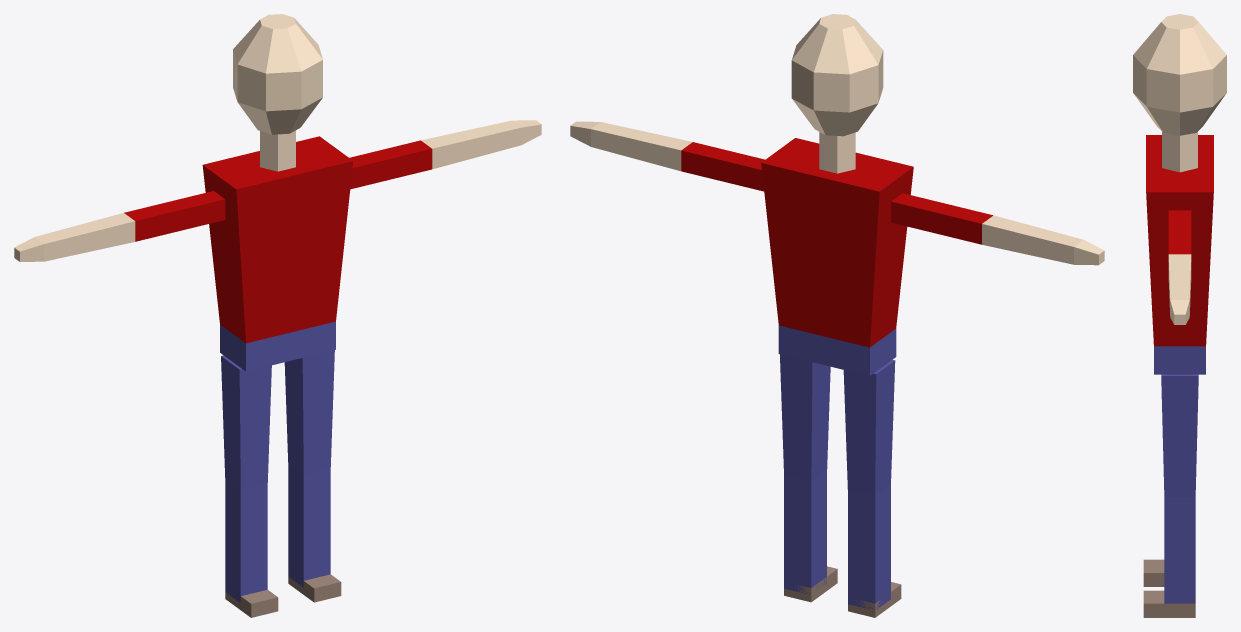
File: human.glb
3 renders of one model, left to right at view 1: azimuth 30°, elevation 25°; view 2: azimuth 150°, elevation 25°; view 3: azimuth 270°, elevation 25°, orthographic.
Visible parts, largest first — view 1: torso, legs, arms, head, feet, neck; view 2: torso, legs, arms, head, feet, neck; view 3: torso, head, legs, arms, feet, neck.
Part boxes in pixels (x1,y1,x2,y2): torso: (202,136,353,371); legs: (221,350,334,602); arms: (14,120,541,261); head: (233,14,322,134); feet: (225,573,341,617); neck: (260,130,295,171); torso: (761,138,913,376); legs: (780,354,895,609); arms: (570,121,1104,265); head: (791,14,883,136); feet: (784,566,901,617); neck: (819,132,855,173); torso: (1146,135,1213,374); head: (1133,14,1226,135); legs: (1161,374,1198,604); arms: (1168,210,1191,324); feet: (1143,559,1195,617); neck: (1162,132,1197,172).
Size of the model in its own units: 5.8 by 6.08 by 0.9.
